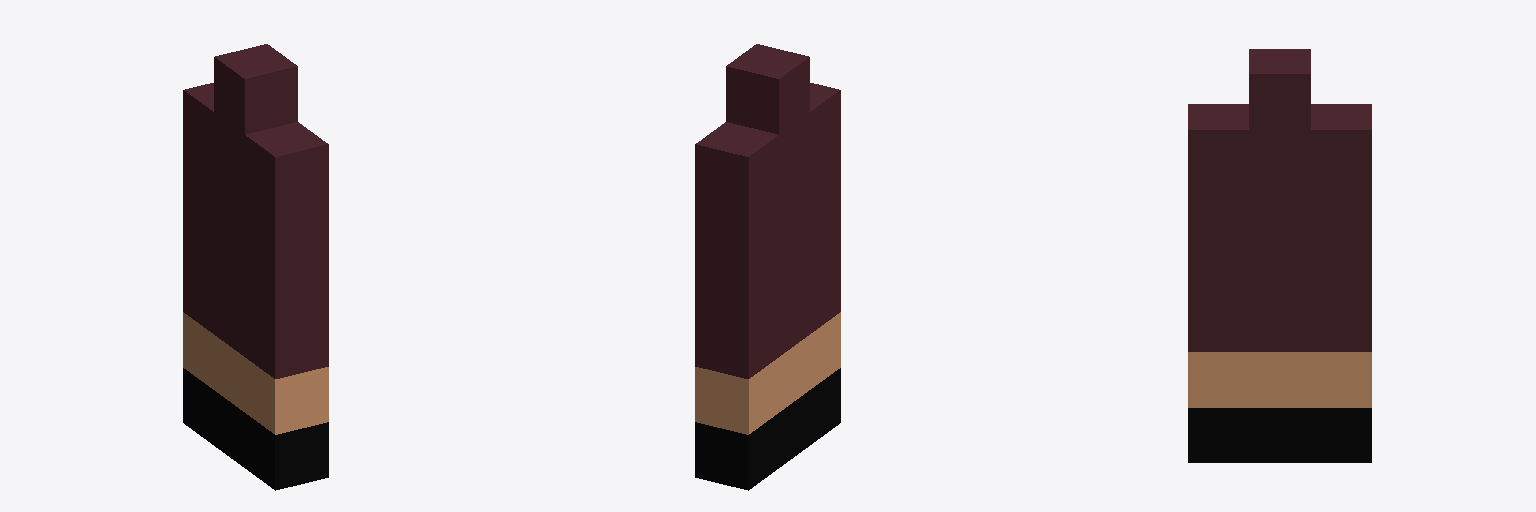
3 views of the same model, side by side, from view 1: azimuth 30°, elevation 25°; view 2: azimuth 150°, elevation 25°; view 3: azimuth 270°, elevation 25° (orthographic).
Parts seen in each view (by area): view 1: object 1; view 2: object 1; view 3: object 1.
Boxes of the visible parts, <box> form: object 1: <box>183,44,328,490</box>; object 1: <box>695,44,840,490</box>; object 1: <box>1188,49,1371,462</box>.
Size of the model in its own units: 0.1 by 0.7 by 0.3.
Materials: 1 (1 with a texture image).